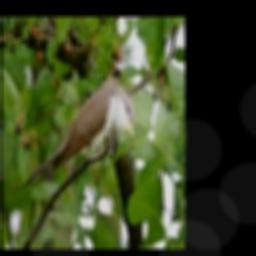Cuckoo: (22, 76, 133, 188)
